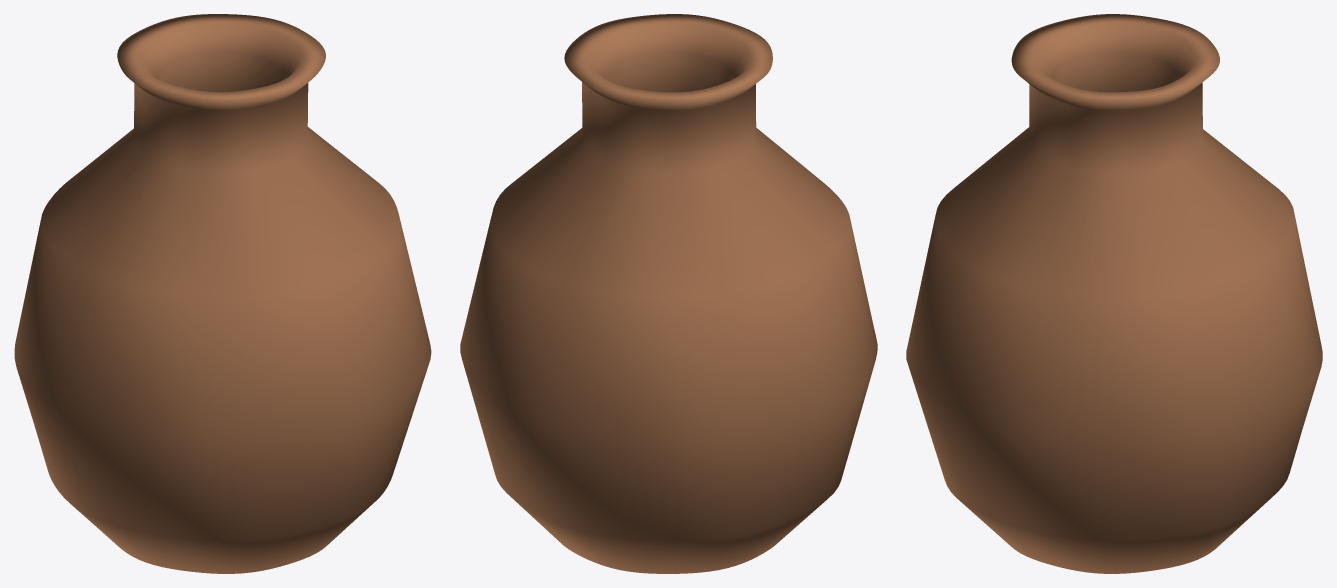
Rendered from EarthenwareJar.fbx.
3 renders of one model, left to right at view 1: azimuth 30°, elevation 25°; view 2: azimuth 150°, elevation 25°; view 3: azimuth 270°, elevation 25°, orthographic.
Visible parts, largest first — view 1: Material group EarthenwareJar_Terracotta; view 2: Material group EarthenwareJar_Terracotta; view 3: Material group EarthenwareJar_Terracotta.
Part boxes in pixels (x1,y1,x2,y2): Material group EarthenwareJar_Terracotta: [14, 14, 431, 573]; Material group EarthenwareJar_Terracotta: [460, 14, 877, 573]; Material group EarthenwareJar_Terracotta: [906, 14, 1322, 573].
Size of the model in its own units: 0.8091 by 1 by 0.8093.
